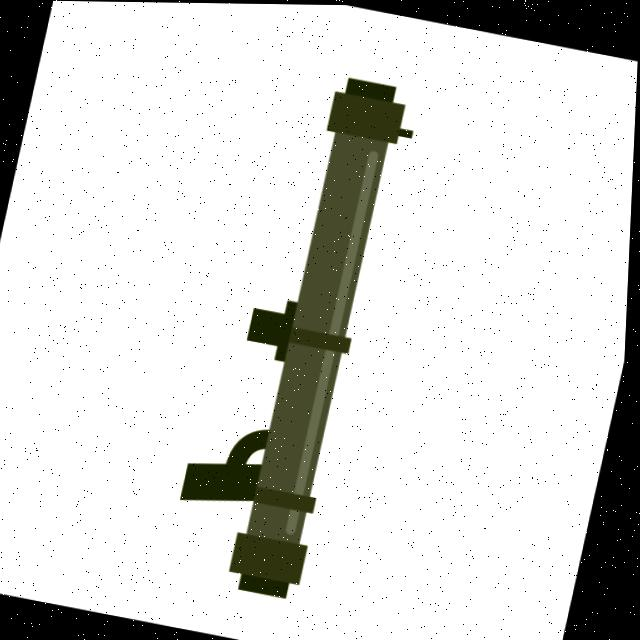rocket: (164, 59, 426, 605)
